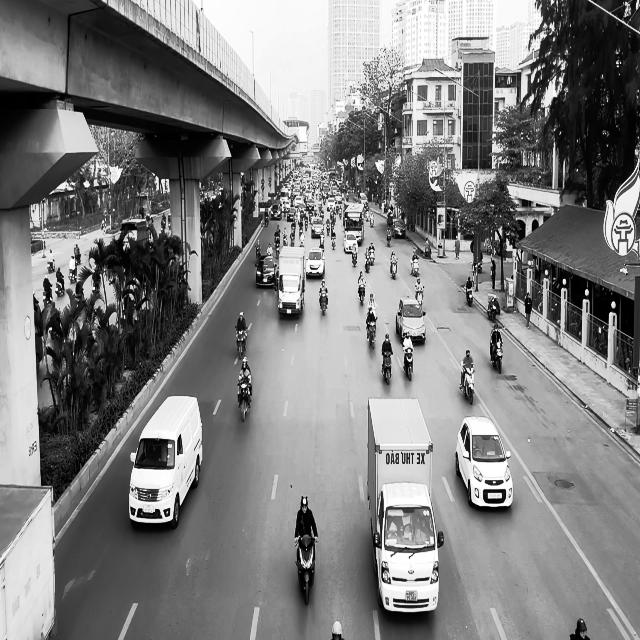car: (455, 414, 514, 510), (396, 296, 426, 344), (255, 255, 277, 287), (306, 247, 325, 277)
motorbike: (295, 534, 317, 604), (460, 363, 475, 404), (238, 379, 252, 422), (381, 350, 393, 385), (491, 341, 503, 374), (235, 326, 248, 356), (403, 346, 414, 381), (367, 319, 378, 348), (319, 289, 329, 315), (487, 295, 497, 321), (358, 280, 366, 305), (465, 284, 473, 306), (390, 259, 398, 279), (411, 256, 419, 276), (352, 244, 358, 266), (47, 258, 55, 272), (386, 228, 392, 246)
truck: (367, 396, 444, 614), (129, 395, 203, 529), (277, 245, 306, 319)
